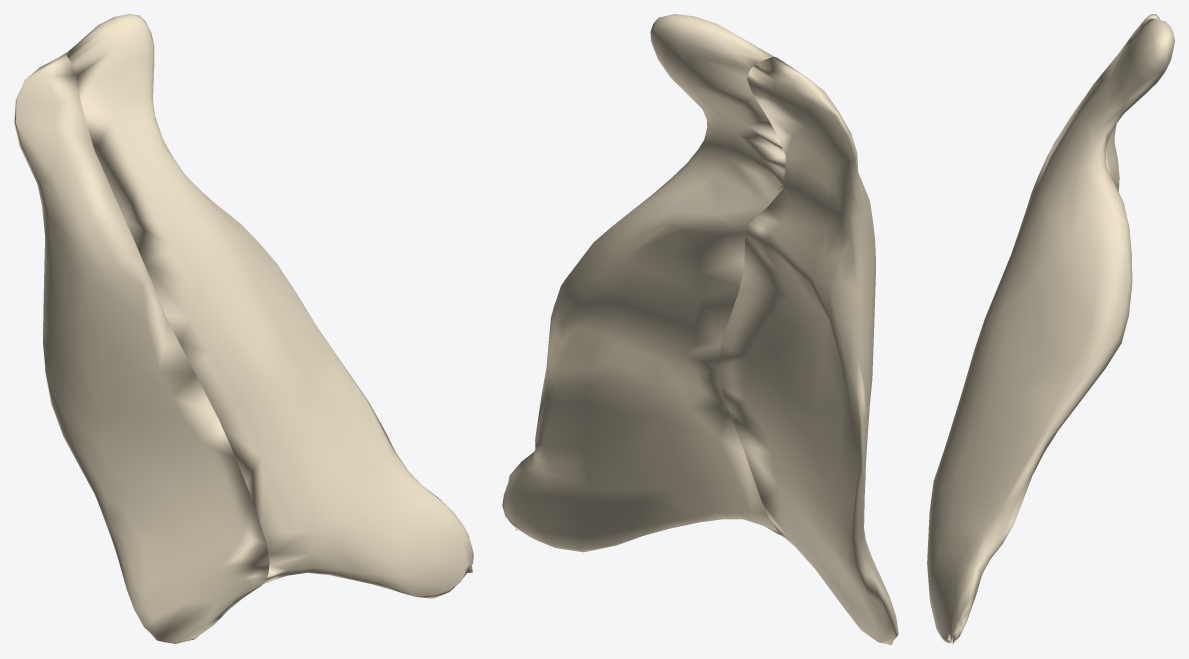
File: vh_f_thymus-40.glb
The picture shows the model from 3 angles, left to right: view 1: azimuth 30°, elevation 25°; view 2: azimuth 150°, elevation 25°; view 3: azimuth 270°, elevation 25°; orthographic projection. The views are drawn at different scales.
Parts seen in each view (by area): view 1: VH_F_thymus_lobe_L, VH_F_thymus_lobe_R; view 2: VH_F_thymus_lobe_L, VH_F_thymus_lobe_R; view 3: VH_F_thymus_lobe_L, VH_F_thymus_lobe_R.
Boxes of the visible parts, x1,y1,x2,y2 form: VH_F_thymus_lobe_L: (66, 14, 473, 598); VH_F_thymus_lobe_R: (14, 53, 269, 644); VH_F_thymus_lobe_L: (502, 14, 785, 552); VH_F_thymus_lobe_R: (718, 57, 898, 644); VH_F_thymus_lobe_L: (927, 18, 1174, 644); VH_F_thymus_lobe_R: (1028, 14, 1159, 201).
Size of the model in its own units: 0.086 by 0.1236 by 0.0538.
